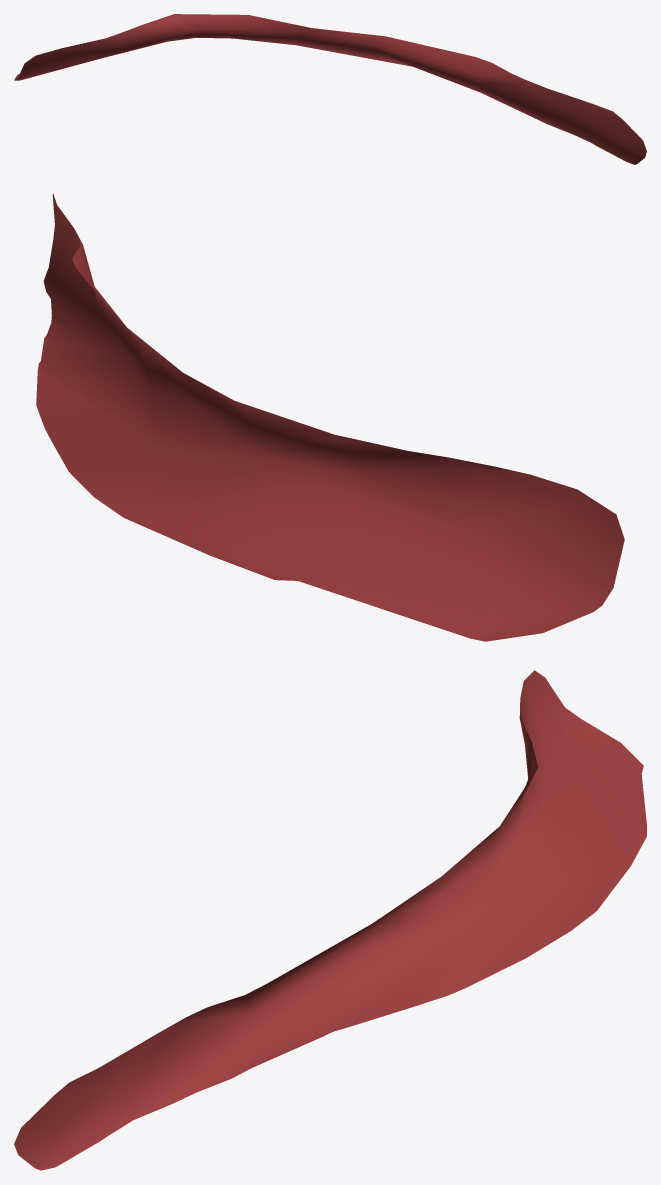
File: clavicular-part-of-deltoid-muscle-or.glb
3 renders of one model, top to bottom at view 1: azimuth 30°, elevation 25°; view 2: azimuth 150°, elevation 25°; view 3: azimuth 270°, elevation 25°, orthographic. The views are drawn at different scales.
Visible parts, largest first — view 1: Clavicular part of deltoid muscle.or; view 2: Clavicular part of deltoid muscle.or; view 3: Clavicular part of deltoid muscle.or.
Part boxes in pixels (x1=…): Clavicular part of deltoid muscle.or: x1=14, y1=14, x2=646, y2=164; Clavicular part of deltoid muscle.or: x1=36, y1=193, x2=624, y2=641; Clavicular part of deltoid muscle.or: x1=14, y1=670, x2=646, y2=1170.
Bounding box in the file's own units: 0.0556 × 0.0128 × 0.0427.
